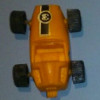carro: (12, 5, 84, 95)
